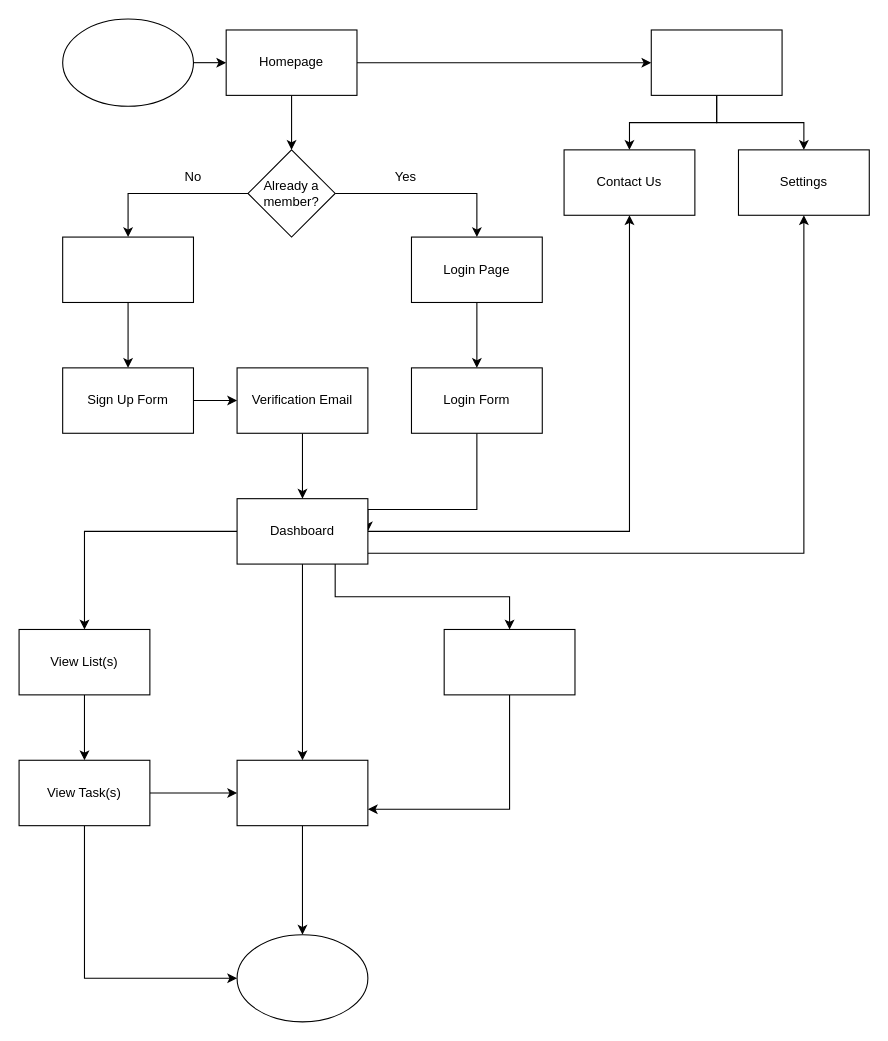
Image size: 888x1041. Some labels were removed from this diagram. Here are the shapes that lost their labels. From the top down, the centre of each, then its label:
At point 127,62: "Start".
At point 716,62: "Other Pages".
At point 127,269: "Sign Up Page".
At point 509,661: "Add Task(s)".
At point 302,792: "Edit Task(s)".
At point 302,978: "End".
